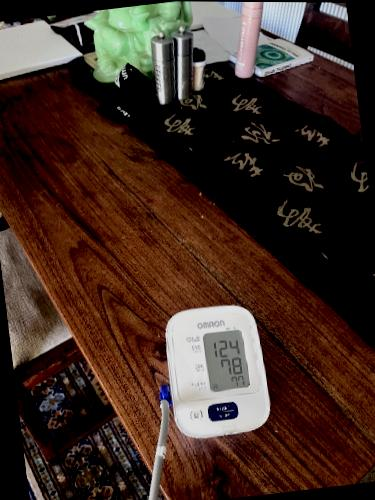bpm: (202, 327, 249, 391)
